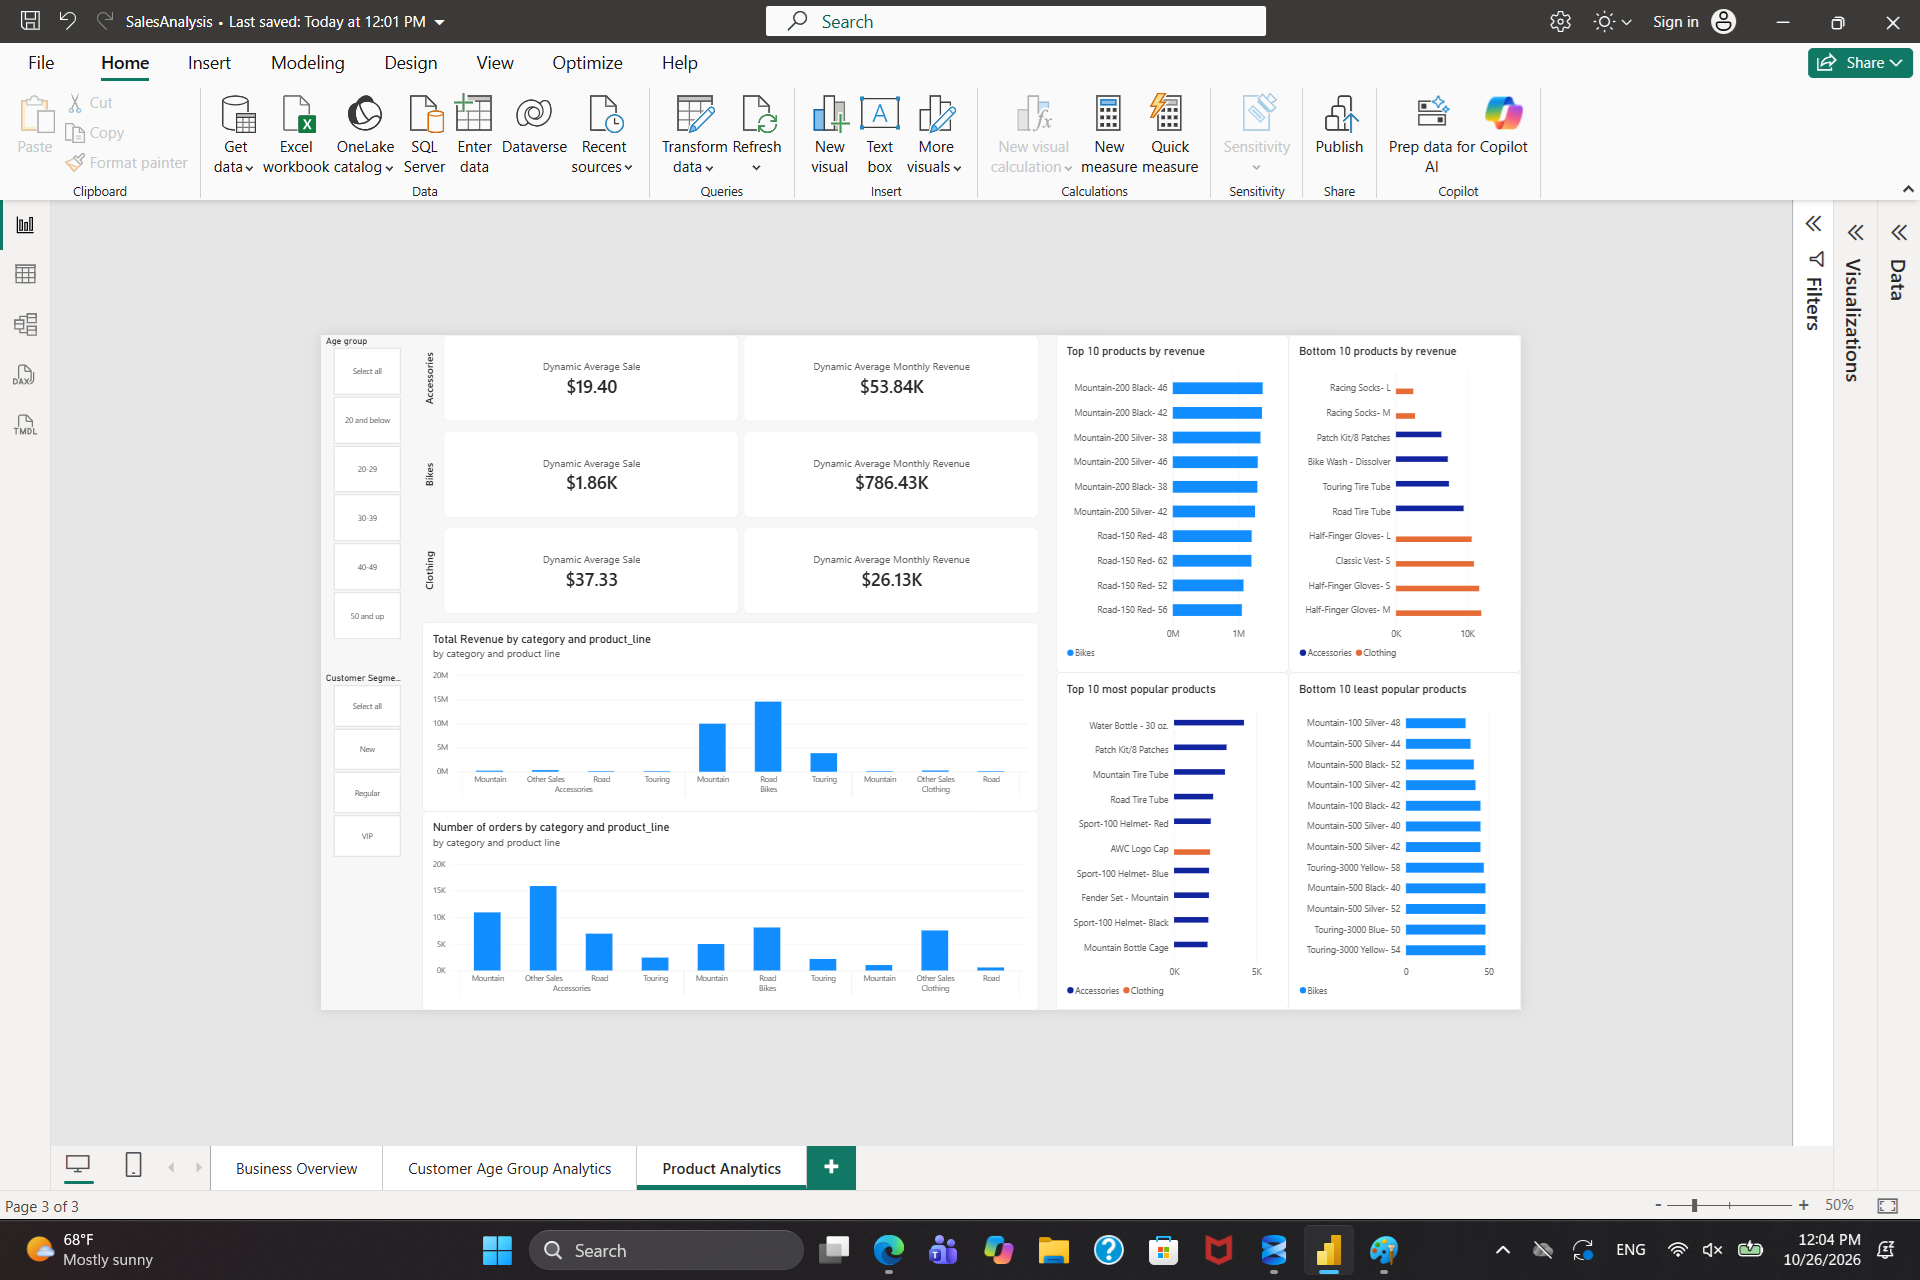

The page's visual inventory and layout, read from the dashboard file:
{"tool":"powerbi","page":{"name":"Product Analytics","canvas":[1920,1080],"ordinal":2},"visuals":[{"type":"cardVisual","fields":{"Data":["gold fact_sales.Average Sale","gold fact_sales.Average Monthly Revenue"],"Rows":["gold dim_products.category"]},"box":[162,0,986,446],"z":0},{"type":"clusteredColumnChart","fields":{"Category":["gold dim_products.category","gold dim_products.product_line"],"Y":["gold fact_sales.Dynamic Total Sales"]},"box":[162,460,986,302],"z":1000},{"type":"clusteredColumnChart","fields":{"Category":["gold dim_products.category","gold dim_products.product_line"],"Y":["gold fact_sales.Total orders"]},"box":[162,762,986,318],"z":2000},{"type":"slicer","fields":{"Values":["gold dim_customers.Age group"]},"box":[0,0,146,488],"z":3000},{"type":"clusteredBarChart","title":"Top 10 products by revenue ","fields":{"Category":["gold dim_products.product_name"],"Series":["gold dim_products.category"],"Y":["gold fact_sales.Dynamic Total Sales"]},"box":[1176,0,372,540],"z":4000},{"type":"clusteredBarChart","title":"Bottom 10 products by revenue","fields":{"Category":["gold dim_products.product_name"],"Series":["gold dim_products.category"],"Y":["gold fact_sales.Dynamic Total Sales"]},"box":[1548,0,372,540],"z":5000},{"type":"slicer","fields":{"Values":["gold dim_customers.Customer Segment"]},"box":[0,540,146,296],"z":6000},{"type":"clusteredBarChart","title":"Bottom 10 least popular products","fields":{"Category":["gold dim_products.product_name"],"Series":["gold dim_products.category"],"Y":["Sum(gold fact_sales.quantity)"]},"box":[1548,540,372,540],"z":7000},{"type":"clusteredBarChart","title":"Top 10 most popular products","fields":{"Category":["gold dim_products.product_name"],"Series":["gold dim_products.category"],"Y":["Sum(gold fact_sales.quantity)"]},"box":[1176,540,372,540],"z":8000}]}

Visuals, with their boxes on the page's 1920x1080 design canvas (x1, y1, x2, y2). These are canvas units, not pixel positions in the 1920x1280 screenshot, which may show the page scaled, cropped or inside an application window:
cardVisual - gold fact_sales.Average Sale x gold fact_sales.Average Monthly Revenue: pyautogui.locateOnScreen(162, 0, 1148, 446)
clusteredColumnChart - gold dim_products.category x gold dim_products.product_line: pyautogui.locateOnScreen(162, 460, 1148, 762)
clusteredColumnChart - gold dim_products.category x gold dim_products.product_line: pyautogui.locateOnScreen(162, 762, 1148, 1080)
slicer - gold dim_customers.Age group: pyautogui.locateOnScreen(0, 0, 146, 488)
"Top 10 products by revenue " clusteredBarChart: pyautogui.locateOnScreen(1176, 0, 1548, 540)
"Bottom 10 products by revenue" clusteredBarChart: pyautogui.locateOnScreen(1548, 0, 1920, 540)
slicer - gold dim_customers.Customer Segment: pyautogui.locateOnScreen(0, 540, 146, 836)
"Bottom 10 least popular products" clusteredBarChart: pyautogui.locateOnScreen(1548, 540, 1920, 1080)
"Top 10 most popular products" clusteredBarChart: pyautogui.locateOnScreen(1176, 540, 1548, 1080)
